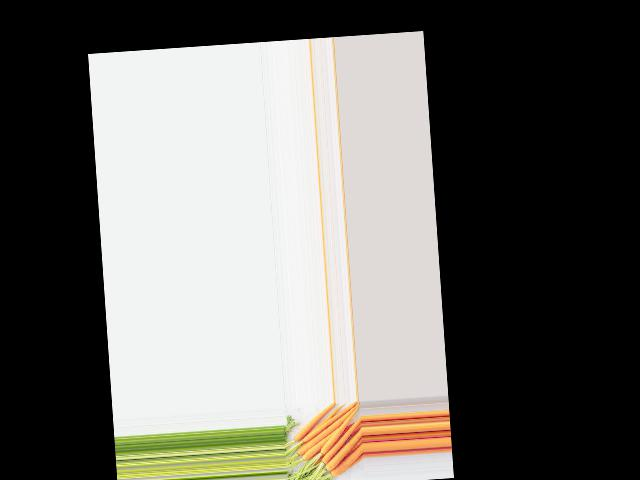carrot: (328, 449, 365, 477)
